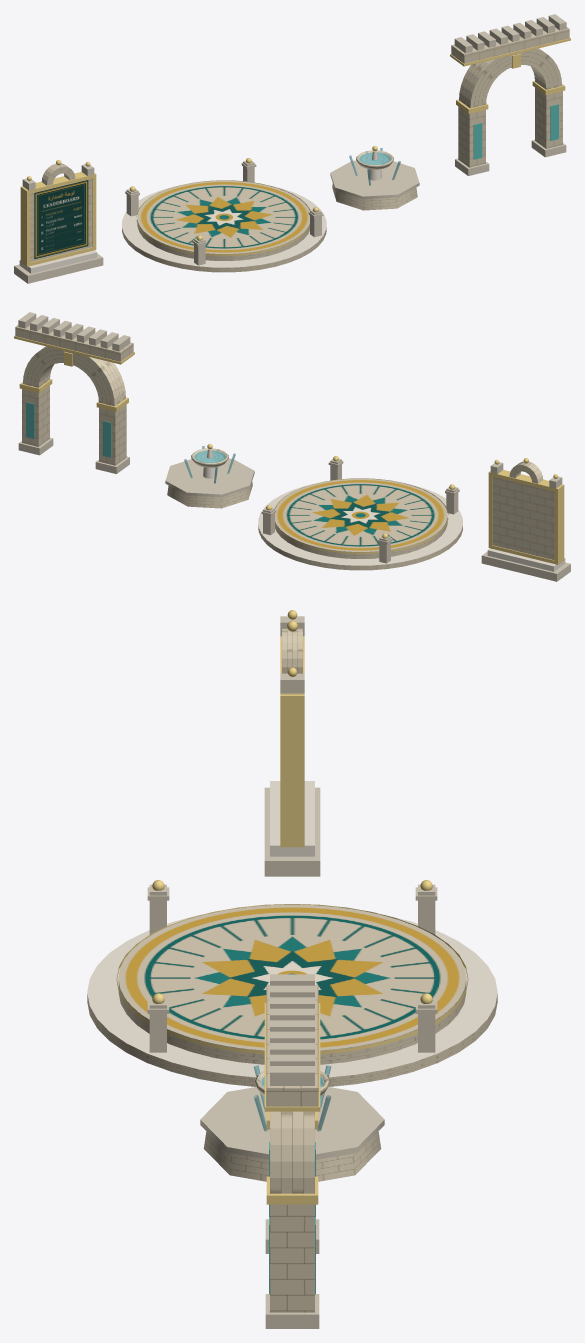
The model's file is kit-3-city-square.glb.
3 views of the same model, one above another, from view 1: azimuth 30°, elevation 25°; view 2: azimuth 150°, elevation 25°; view 3: azimuth 270°, elevation 25° (orthographic). The views are drawn at different scales.
Parts seen in each view (by area): view 1: Square_DuelArena, Square_Gateway, Square_Leaderboard, Square_Fountain; view 2: Square_DuelArena, Square_Gateway, Square_Leaderboard, Square_Fountain; view 3: Square_DuelArena, Square_Gateway, Square_Fountain, Square_Leaderboard.
Part boxes in pixels (x1,y1,x2,y2): Square_DuelArena: [122, 158, 326, 272]; Square_Gateway: [450, 14, 570, 175]; Square_Leaderboard: [14, 160, 103, 283]; Square_Fountain: [330, 146, 419, 210]; Square_DuelArena: [258, 456, 462, 570]; Square_Gateway: [14, 312, 134, 473]; Square_Leaderboard: [481, 458, 570, 581]; Square_Fountain: [165, 444, 254, 508]; Square_DuelArena: [87, 880, 497, 1086]; Square_Gateway: [264, 974, 320, 1328]; Square_Fountain: [200, 1065, 384, 1181]; Square_Leaderboard: [264, 610, 320, 876].
Bounding box in the file's own units: 36.05 × 8.17 × 11.8.
8 materials, 4 textured.
